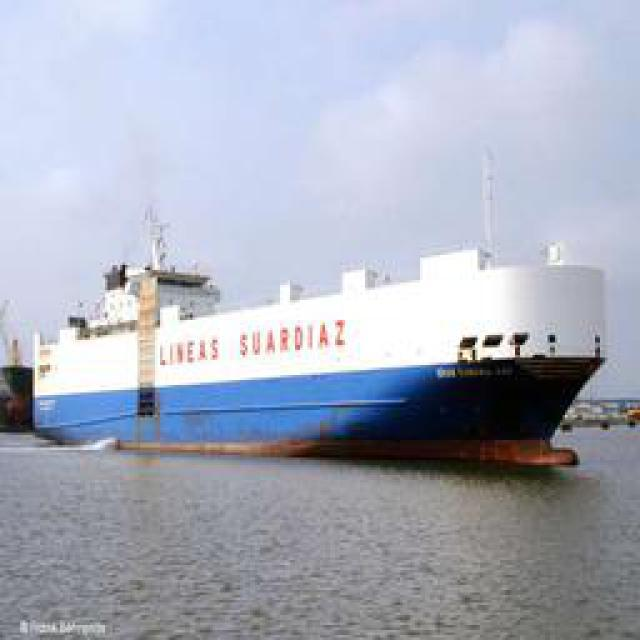Ship: (37, 179, 613, 478)
